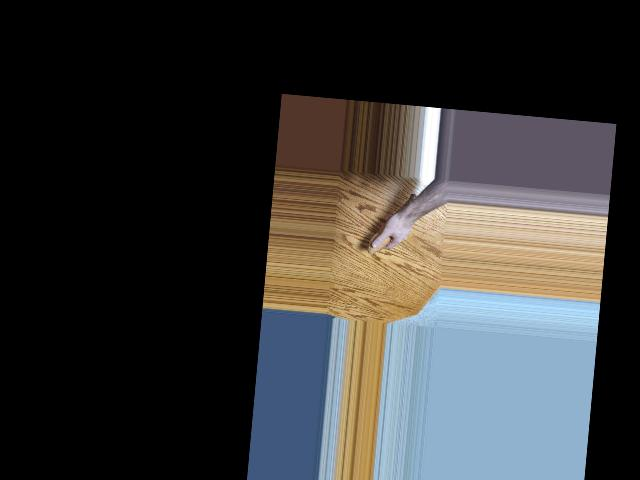sweet_potato: (366, 188, 418, 257)
